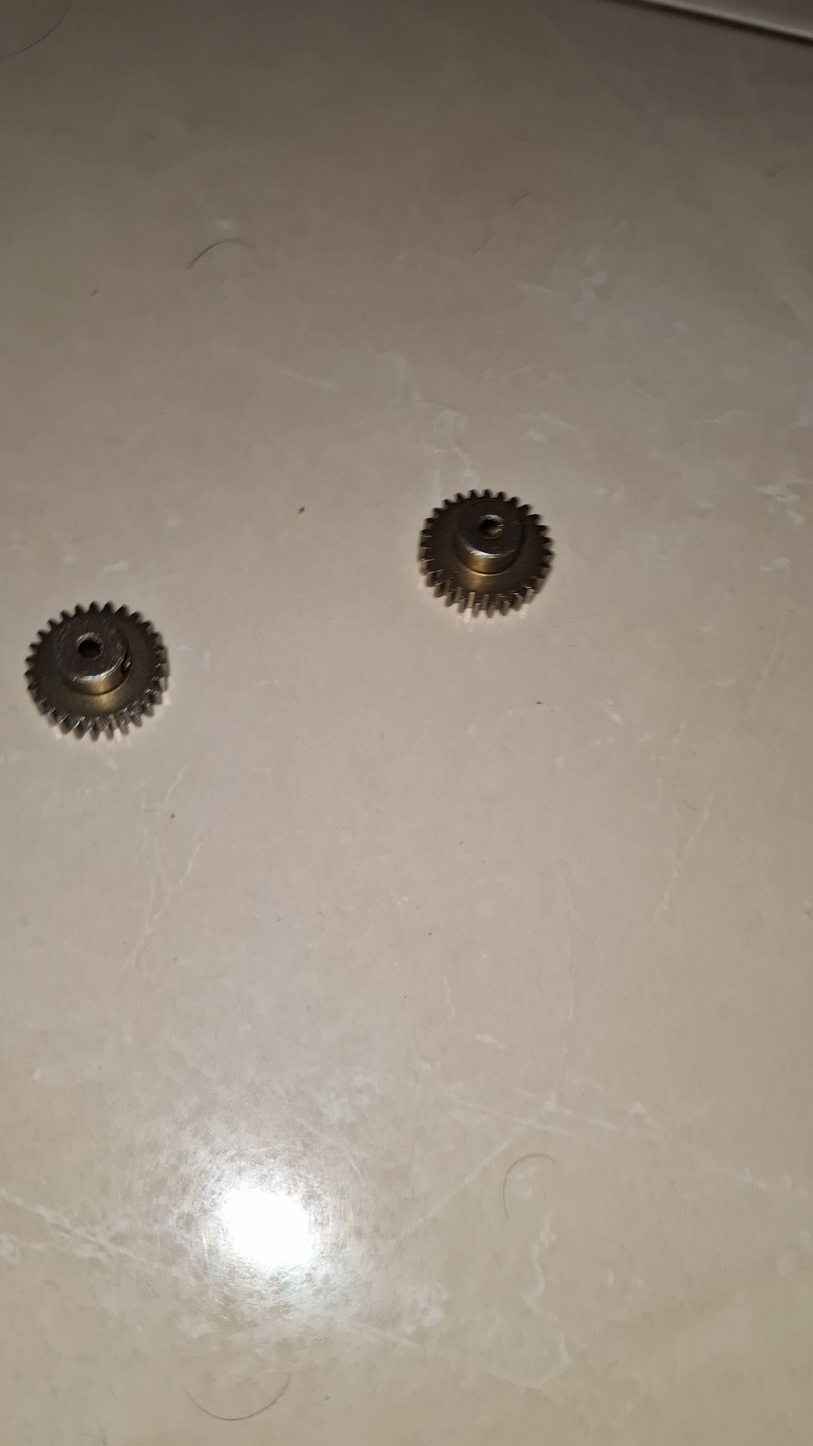spur gear: (27, 602, 168, 736), (419, 491, 553, 614)
